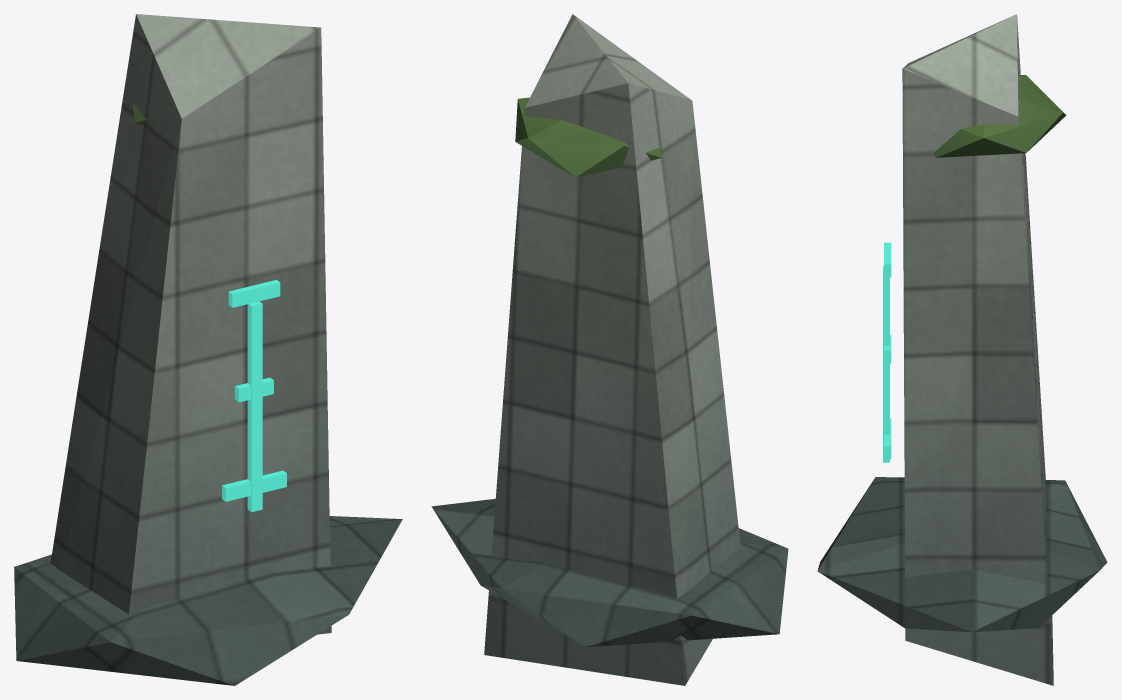
File: standing_stone_a.glb
3 renders of one model, left to right at view 1: azimuth 30°, elevation 25°; view 2: azimuth 150°, elevation 25°; view 3: azimuth 270°, elevation 25°, orthographic. The views are drawn at different scales.
Visible parts, largest first — view 1: standing_stone_a; view 2: standing_stone_a; view 3: standing_stone_a.
Boxes of the visible parts, x1,y1,x2,y2 form: standing_stone_a: (14,14,402,685); standing_stone_a: (431,14,788,685); standing_stone_a: (817,14,1107,685).
Bounding box in the file's own units: 1.77 × 2.86 × 1.24.
Materials: 3 (3 with a texture image).
